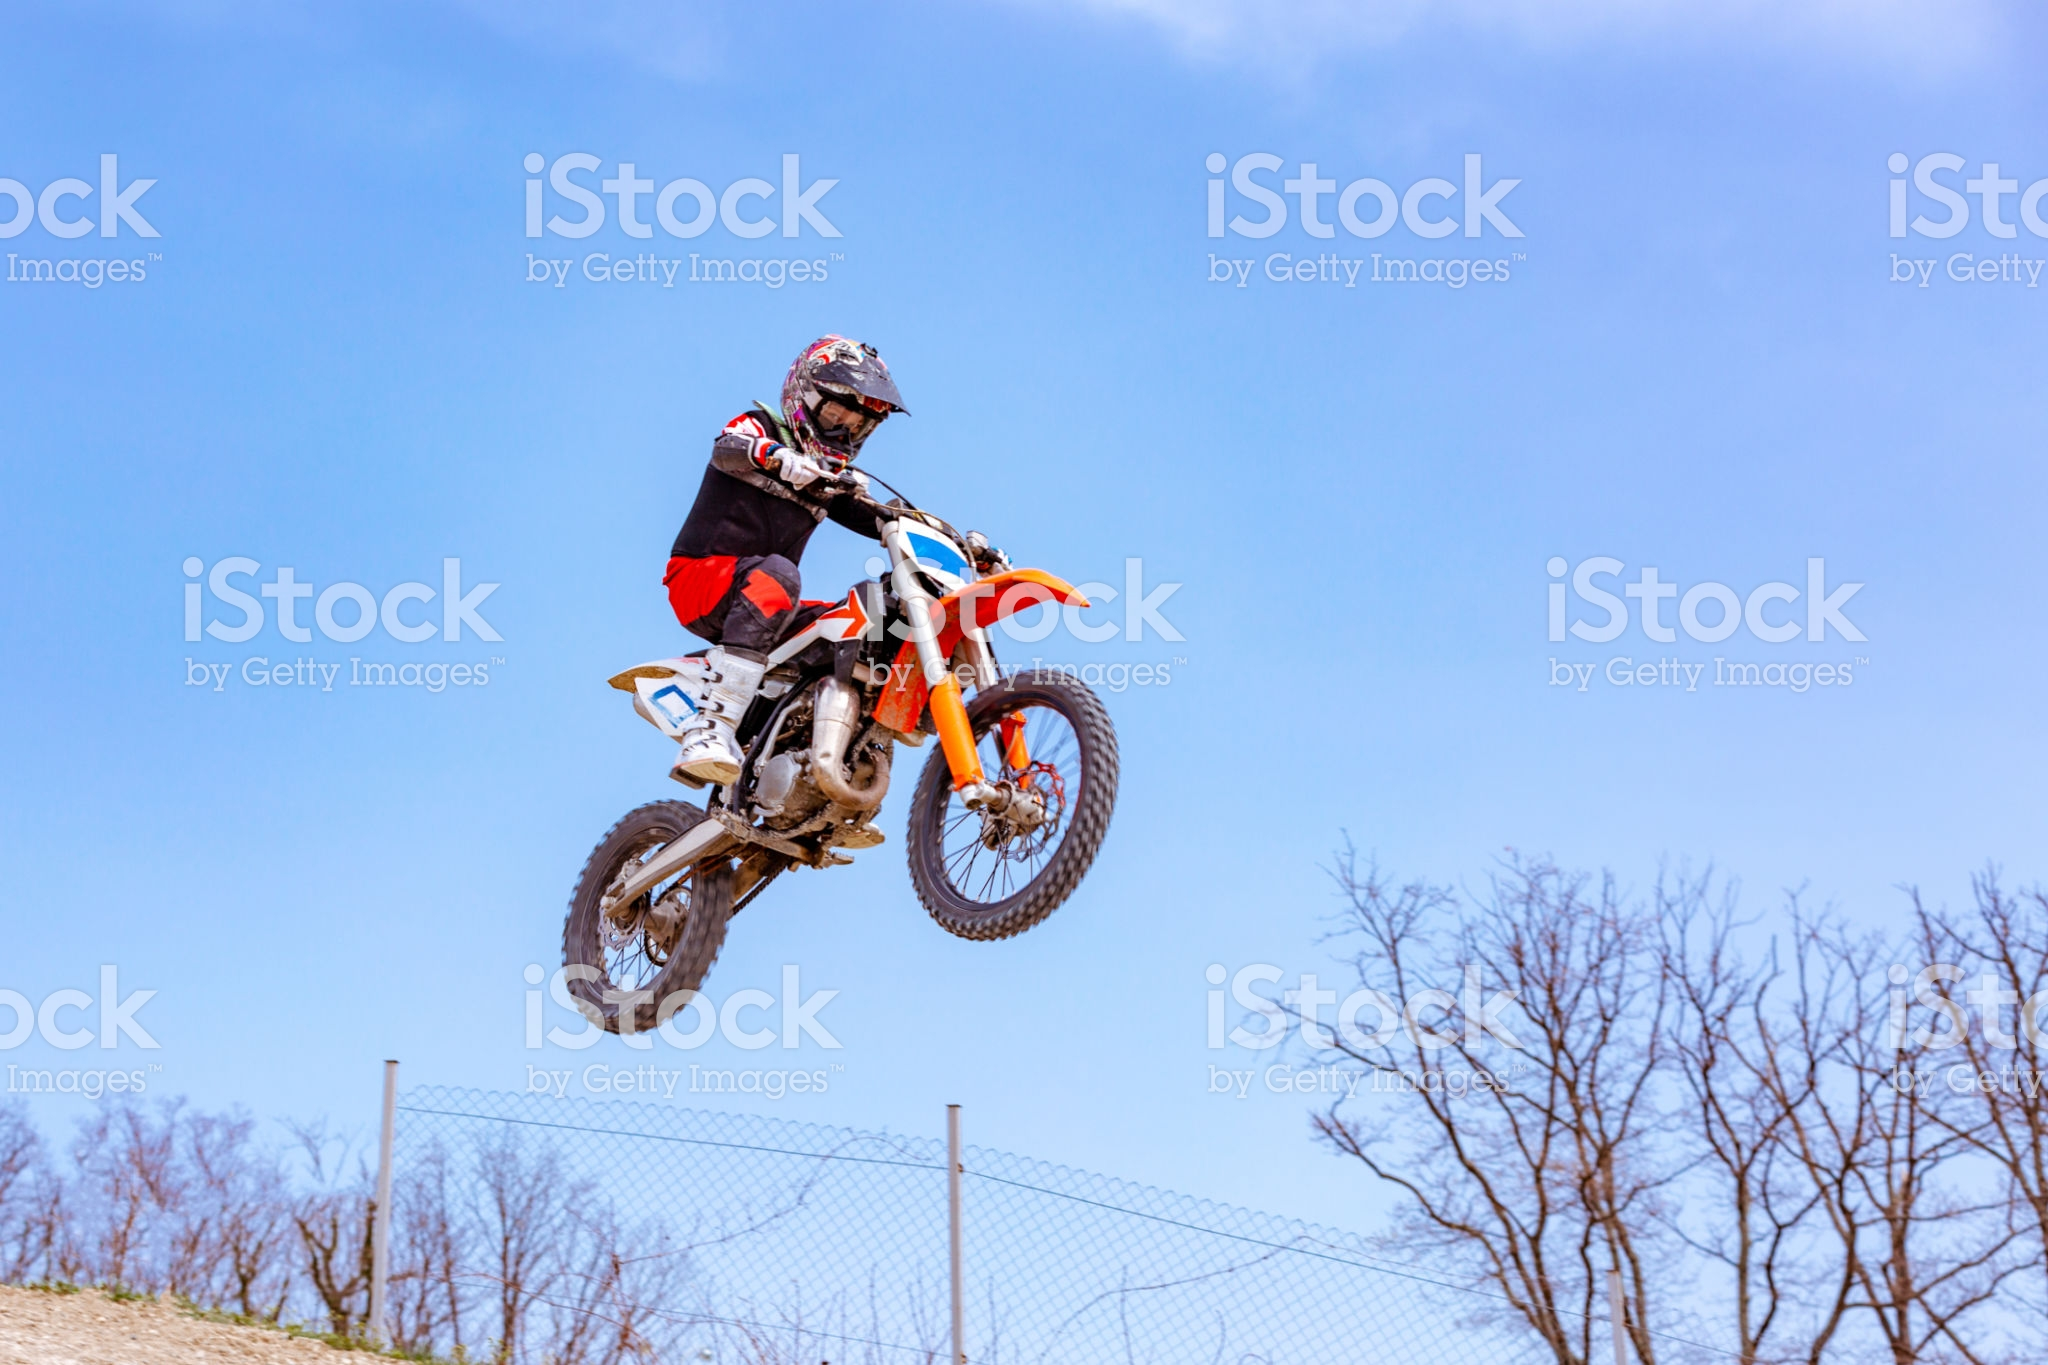helmet: (780, 331, 898, 468)
